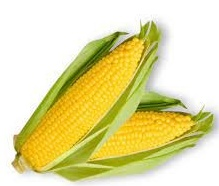corn: (14, 27, 157, 175), (55, 112, 210, 179)
